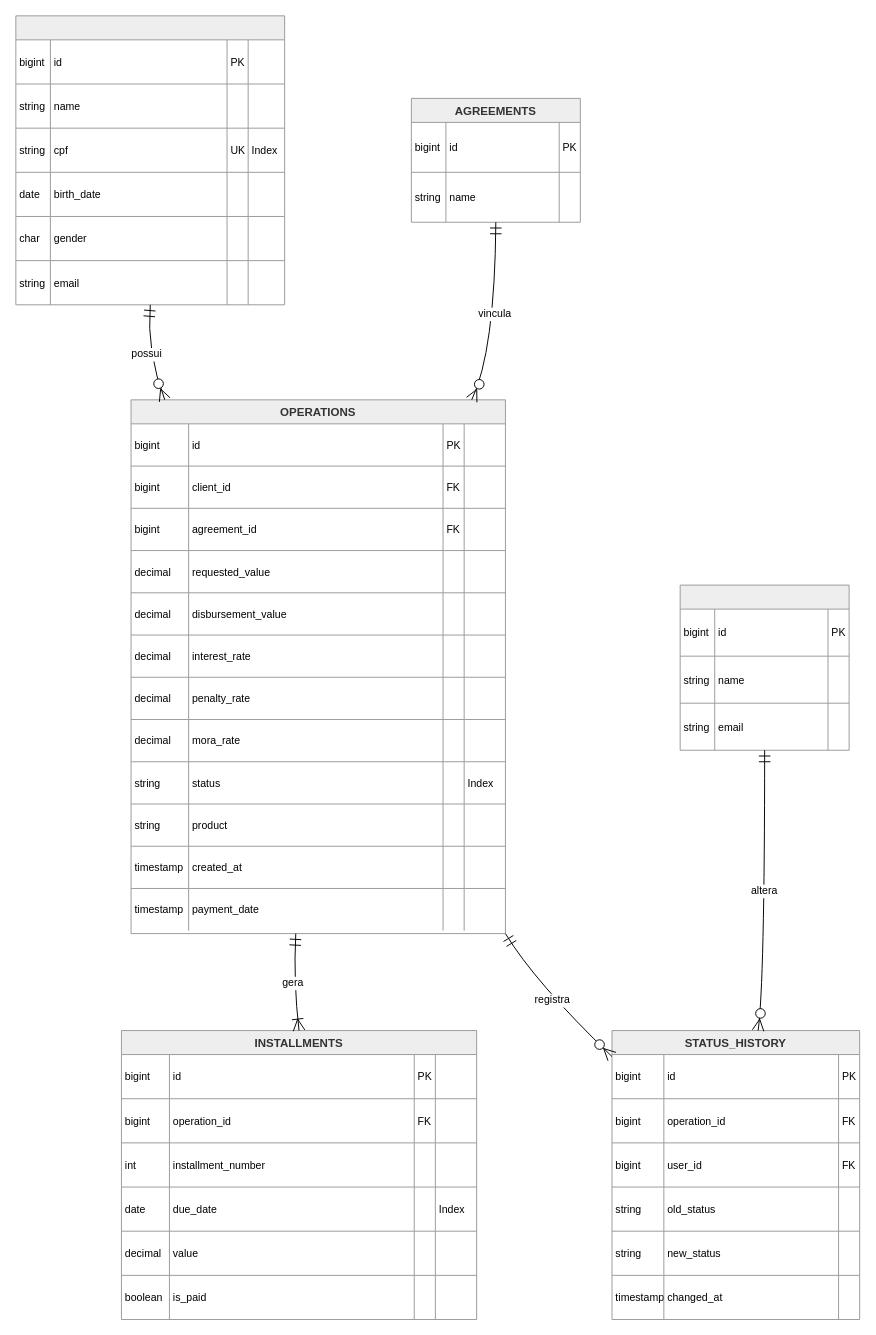
The diagram is 876 pixels wide and 1335 high, and some of its shapes have lost their labels. The shapes that lost their labels are listed below. From the top down, each one's box as (x1, y1, x2, y2) in pixels, then its label:
(15, 15, 285, 305): CLIENTS
(679, 584, 849, 750): USERS
